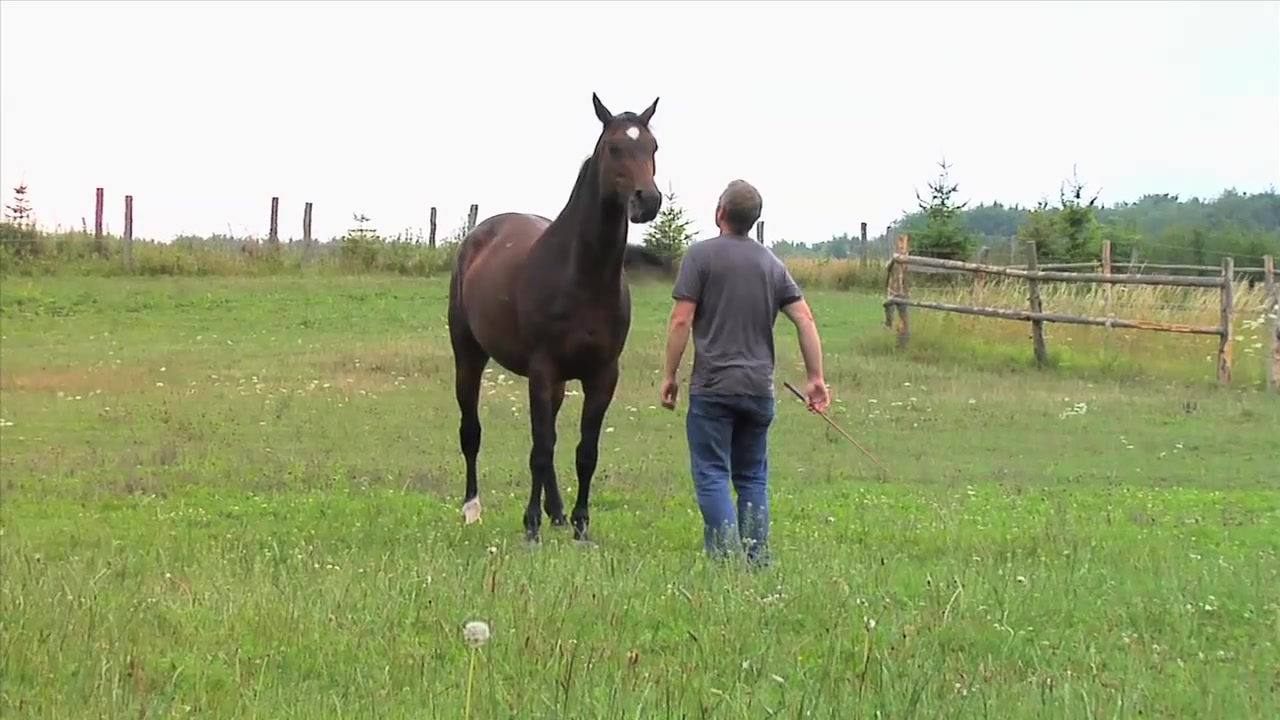horse: (449, 93, 663, 549)
